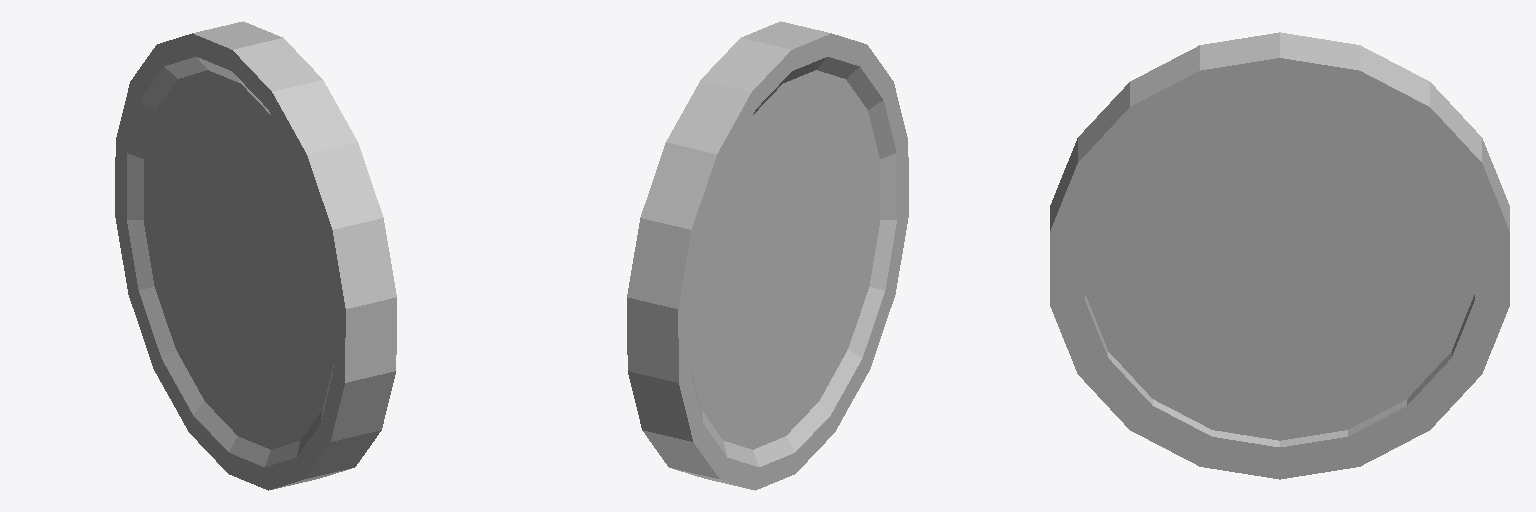
File: coin.obj
3 renders of one model, left to right at view 1: azimuth 30°, elevation 25°; view 2: azimuth 150°, elevation 25°; view 3: azimuth 270°, elevation 25°, orthographic.
Parts seen in each view (by area): view 1: Cylinder001; view 2: Cylinder001; view 3: Cylinder001.
Part boxes in pixels (x1,y1,x2,y2): Cylinder001: (115, 21, 396, 490); Cylinder001: (627, 21, 908, 490); Cylinder001: (1050, 32, 1509, 479).
Size of the model in its own units: 3.08 by 22.69 by 22.32.